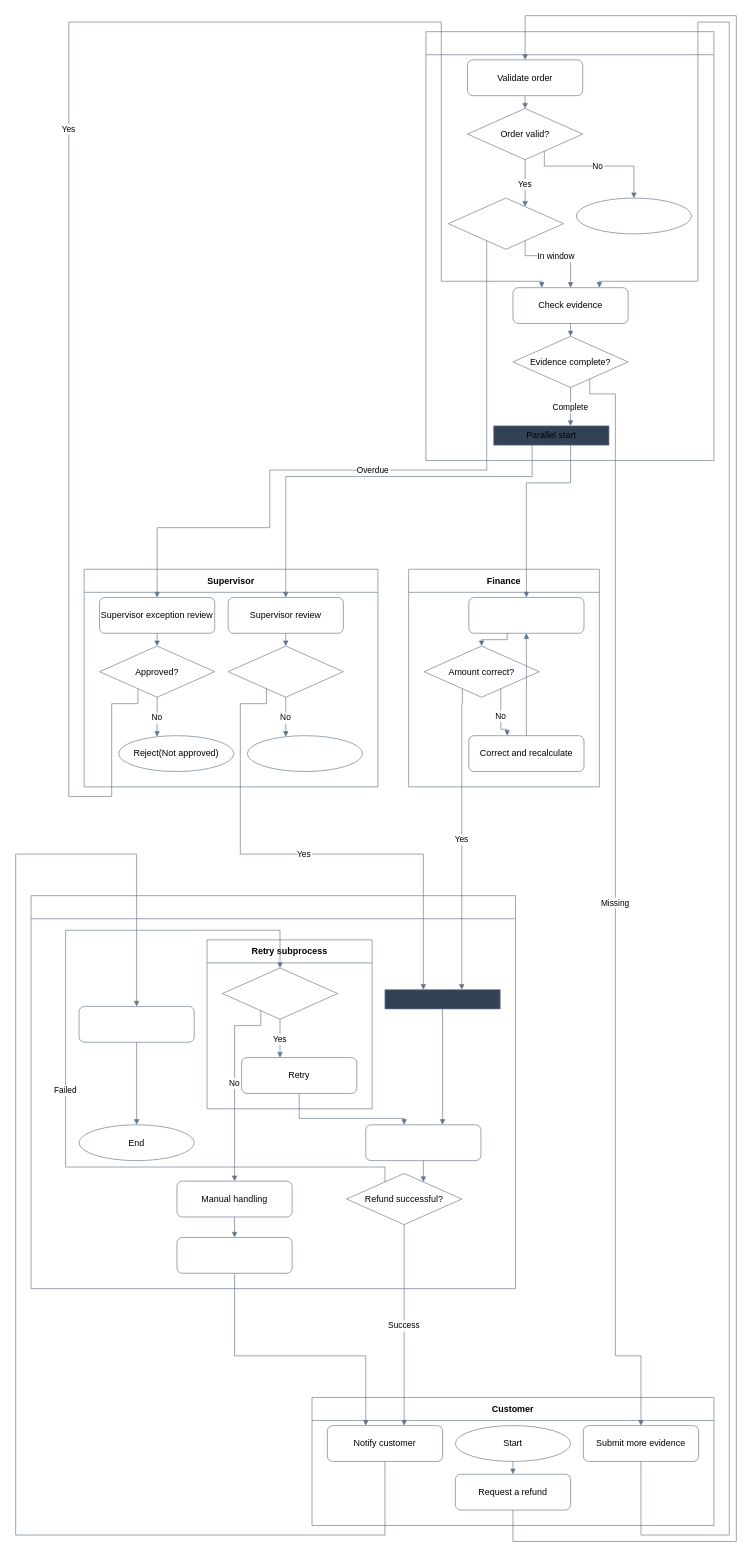
This 753x1558 diagram has some shape labels left out. Each missing label, with the box of its shape:
Archive: (78, 1006, 194, 1042)
Both passed: (384, 989, 500, 1009)
Execute refund: (365, 1124, 481, 1161)
Finance calculation: (468, 597, 584, 633)
In window?: (448, 197, 564, 249)
Manual complete: (176, 1237, 292, 1273)
Payment: (30, 895, 516, 1289)
Reject (review): (247, 735, 363, 772)
Reject(Invalid): (576, 197, 692, 234)
Retryable?: (222, 967, 338, 1019)
Review approved?: (228, 645, 343, 697)
Support: (425, 31, 714, 460)
